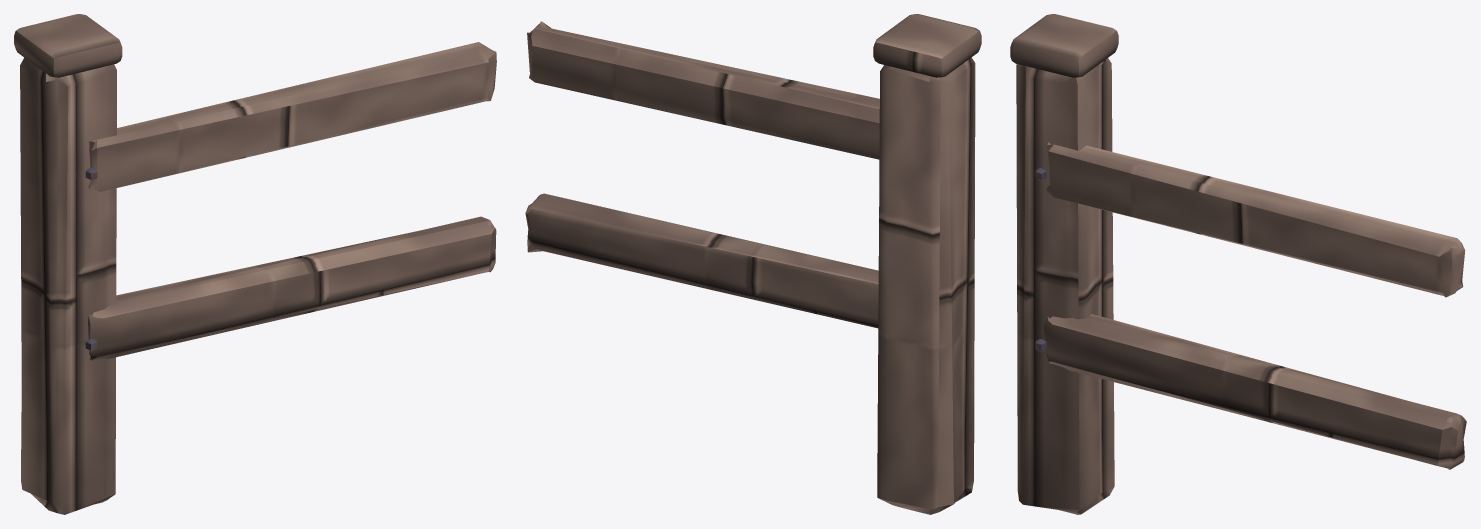
Rendered from fence_wood.gltf.
The picture shows the model from 3 angles, left to right: view 1: azimuth 30°, elevation 25°; view 2: azimuth 150°, elevation 25°; view 3: azimuth 330°, elevation 25°; orthographic projection.
Visible parts, largest first — view 1: fence_wood_mesh; view 2: fence_wood_mesh; view 3: fence_wood_mesh.
Part boxes in pixels (<box>): fence_wood_mesh: <box>14,14,496,514</box>; fence_wood_mesh: <box>525,14,981,514</box>; fence_wood_mesh: <box>1010,14,1466,514</box>.
Size of what is drawn, in the model's own units: 1.1 by 1.1 by 0.2005.
Materials: 2 (2 with a texture image).
